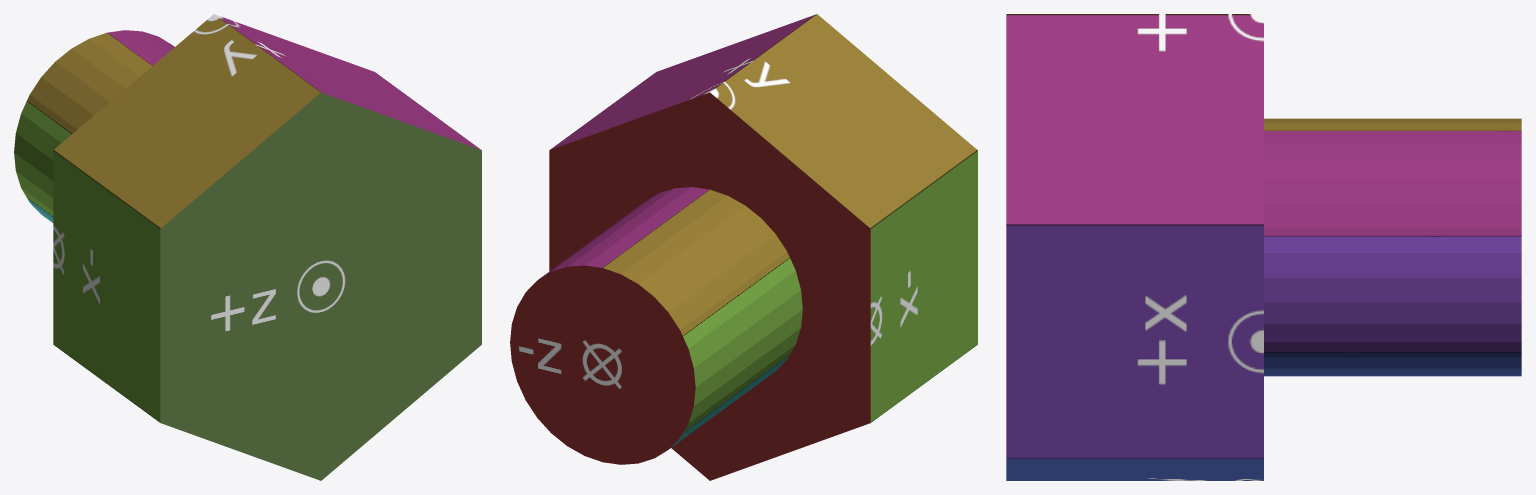
The picture shows the model from 3 angles, left to right: view 1: azimuth 30°, elevation 25°; view 2: azimuth 150°, elevation 25°; view 3: azimuth 270°, elevation 25°; orthographic projection. The views are drawn at different scales.
Parts seen in each view (by area): view 1: Cylinder; view 2: Cylinder; view 3: Cylinder.
Part boxes in pixels (x1,y1,x2,y2): Cylinder: (14,14,481,480); Cylinder: (510,14,977,480); Cylinder: (1006,14,1521,480).
Bounding box in the file's own units: 0.1299 × 0.15 × 0.15.
1 material, 1 textured.
